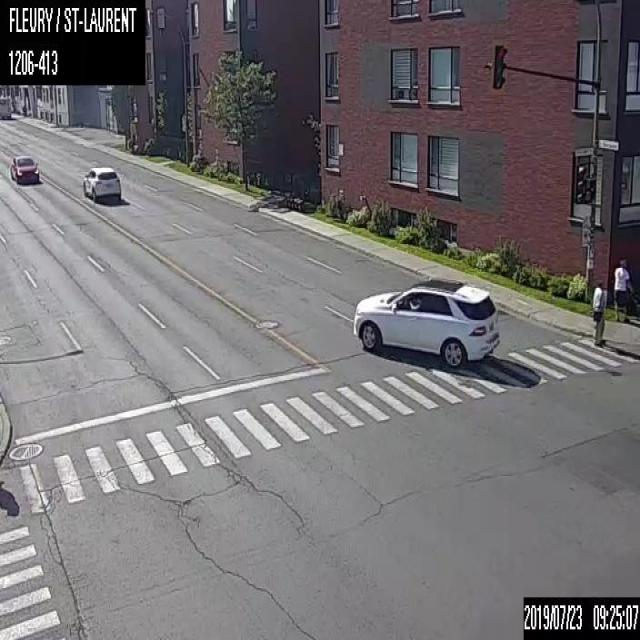pedestrian: (612, 258, 631, 326), (590, 277, 604, 344)
vehicle: (351, 276, 501, 369), (83, 162, 121, 202), (9, 152, 40, 185), (0, 96, 10, 119)
